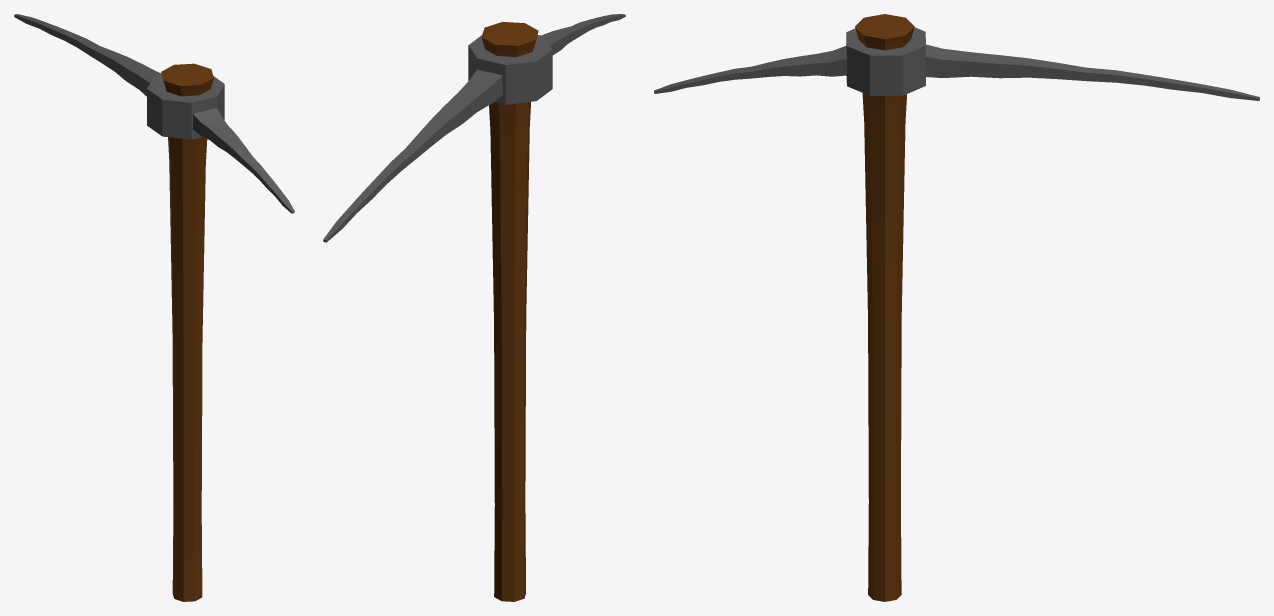
File: W_Pickaxe.fbx
3 renders of one model, left to right at view 1: azimuth 30°, elevation 25°; view 2: azimuth 150°, elevation 25°; view 3: azimuth 270°, elevation 25°, orthographic. The views are drawn at different scales.
Visible parts, largest first — view 1: Cylinder.001; view 2: Cylinder.001; view 3: Cylinder.001.
Boxes of the visible parts, box(x1,y1,x2,y2) form: Cylinder.001: box(14, 14, 294, 601); Cylinder.001: box(323, 14, 625, 601); Cylinder.001: box(654, 14, 1259, 601).
Size of the model in its own units: 11.16 by 87.93 by 84.92.
